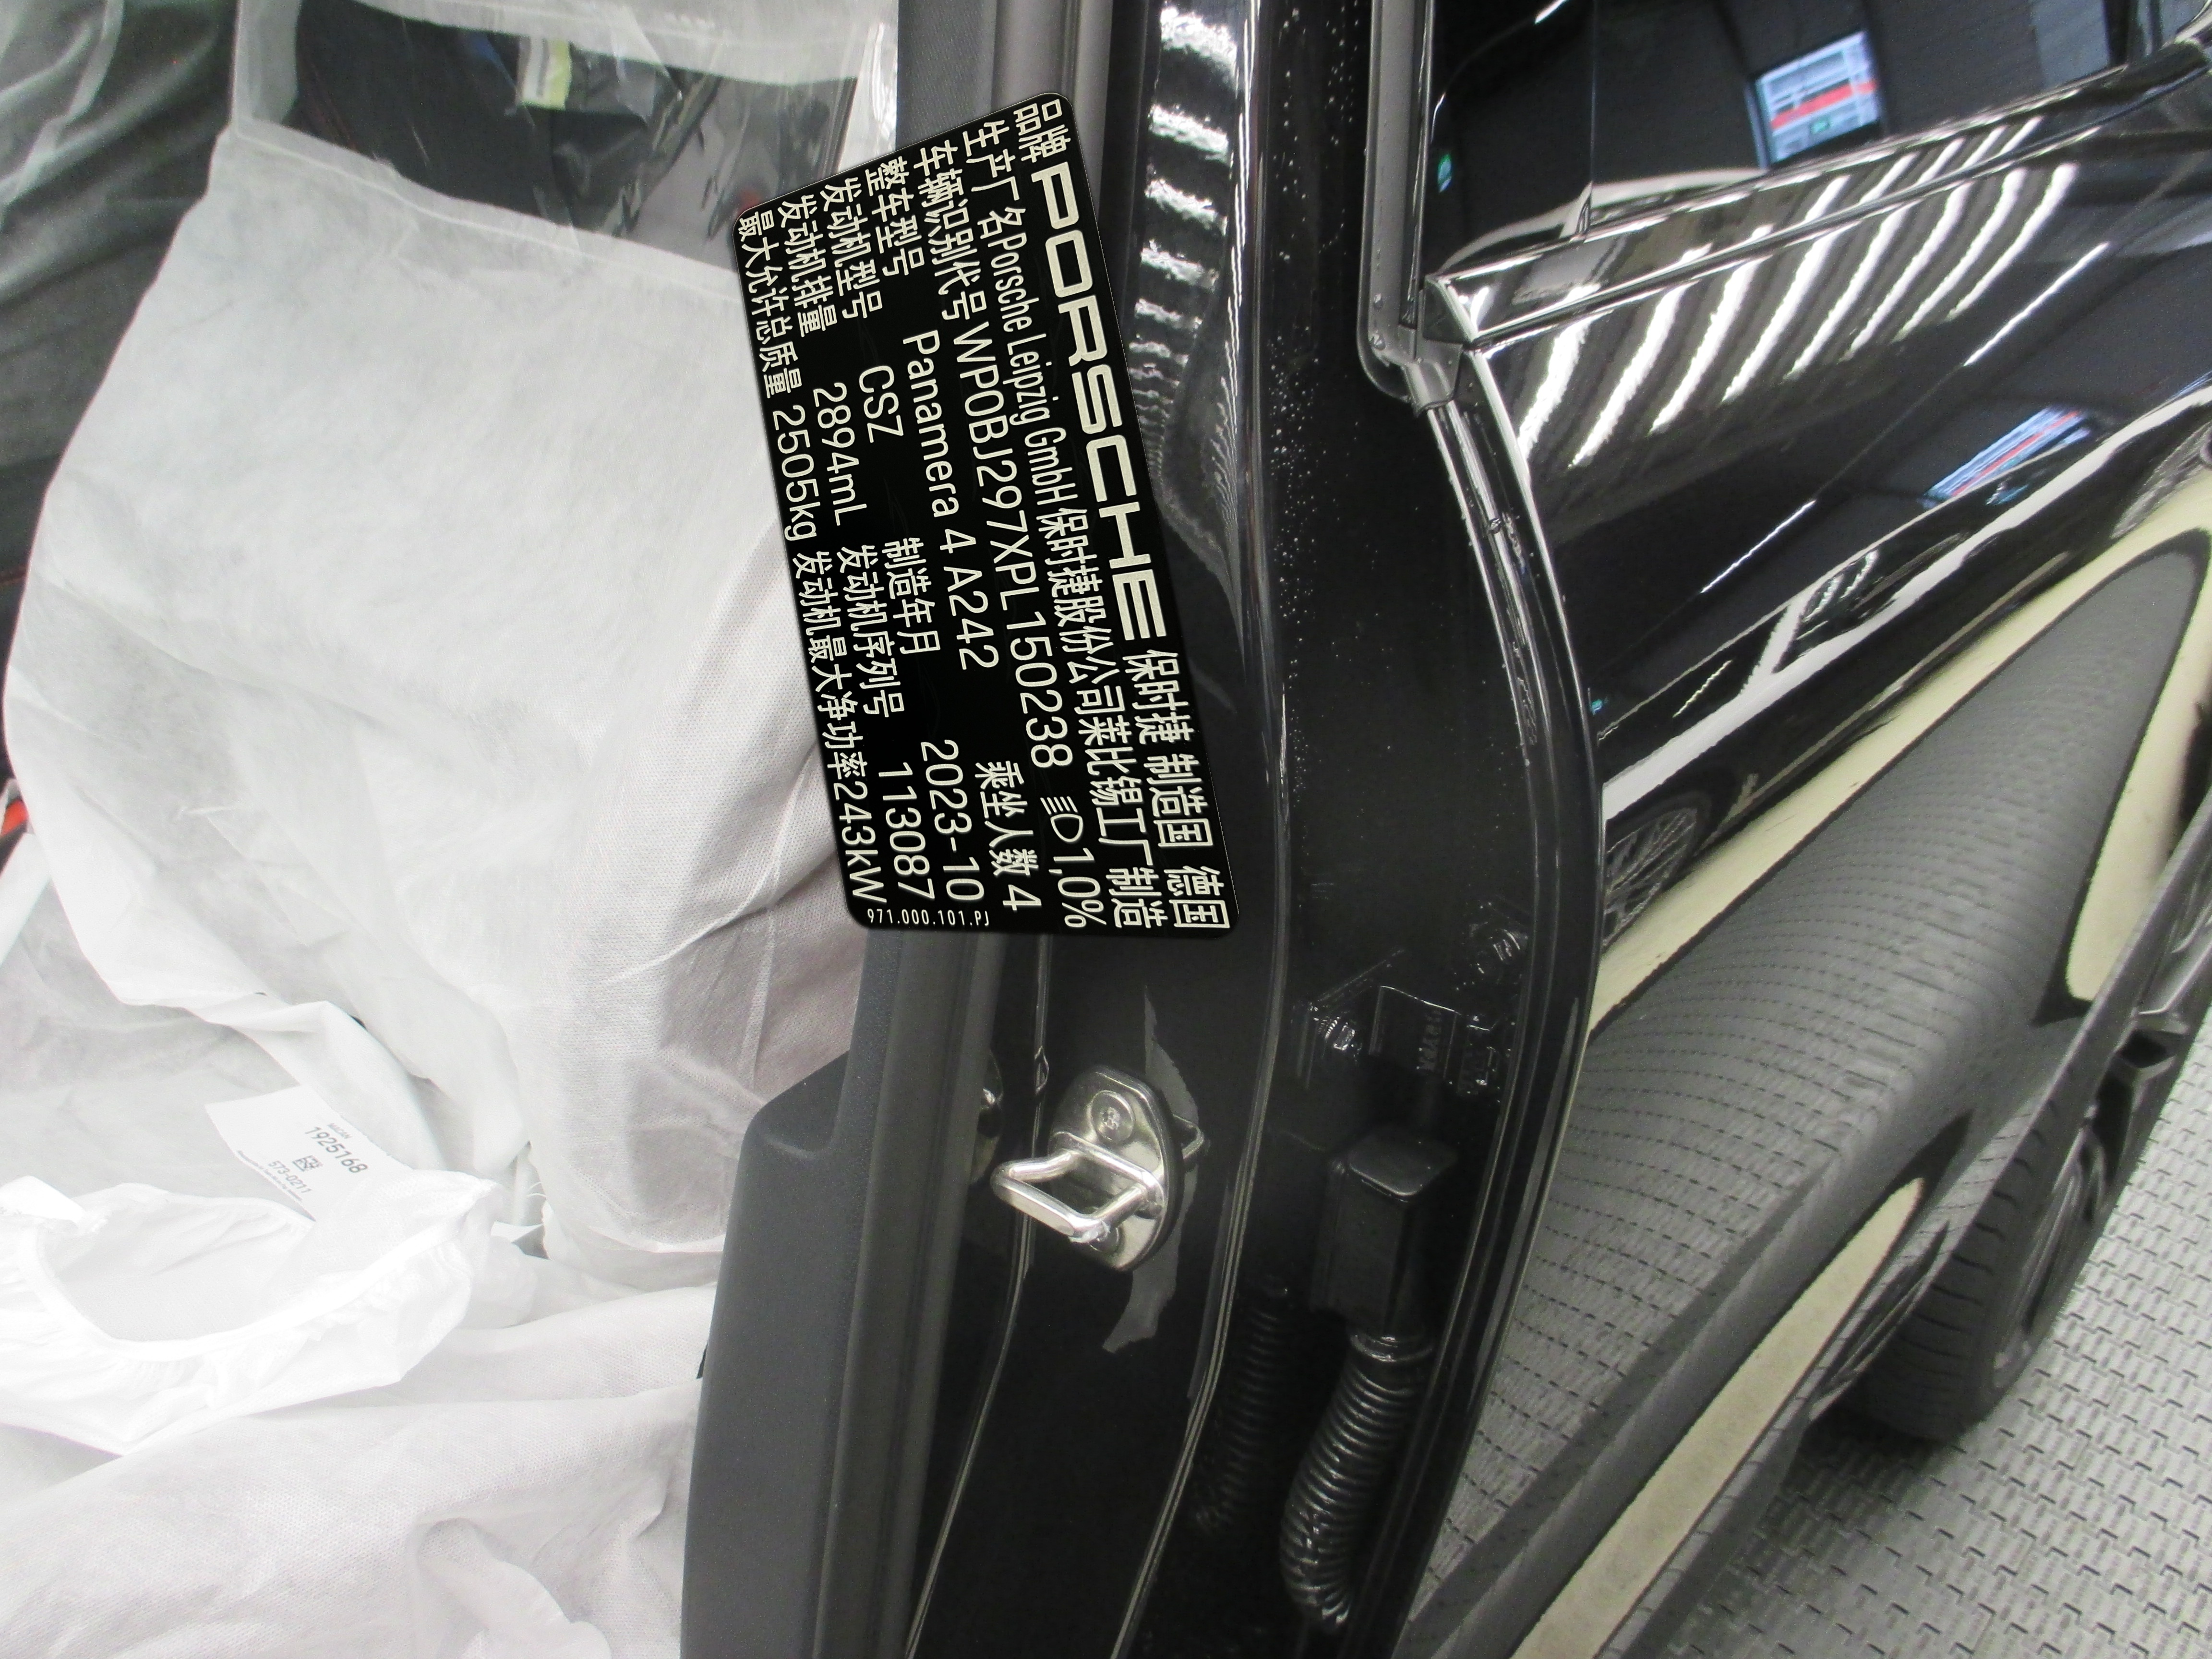Typlabel-China: (732, 92, 1238, 939)
